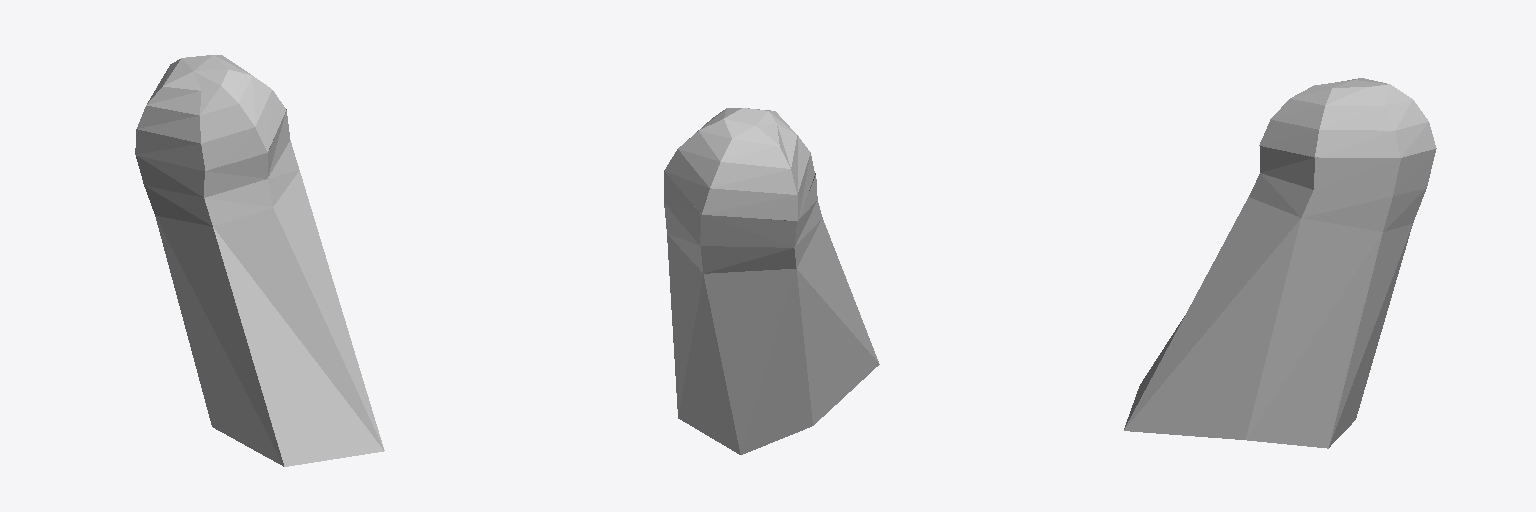
Rendered from antebrazoDer.obj.
3 renders of one model, left to right at view 1: azimuth 30°, elevation 25°; view 2: azimuth 150°, elevation 25°; view 3: azimuth 270°, elevation 25°, orthographic.
Visible parts, largest first — view 1: pSphere5; view 2: pSphere5; view 3: pSphere5.
Boxes of the visible parts, x1=… form: pSphere5: x1=135, y1=55, x2=384, y2=466; pSphere5: x1=664, y1=108, x2=879, y2=454; pSphere5: x1=1124, y1=78, x2=1436, y2=448.
Size of the model in its own units: 0.1147 by 0.2451 by 0.2057.